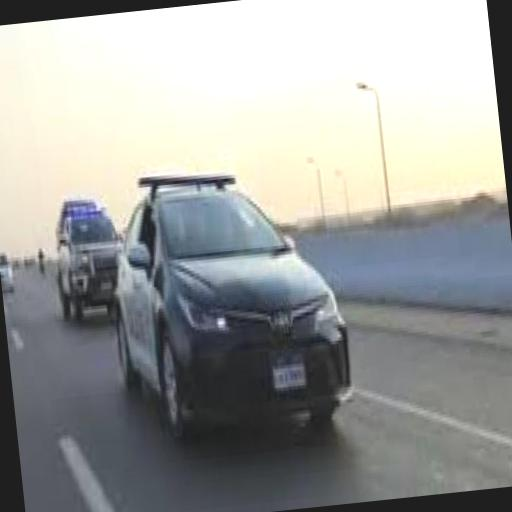Ambulance: (99, 160, 358, 443), (46, 192, 122, 332)
